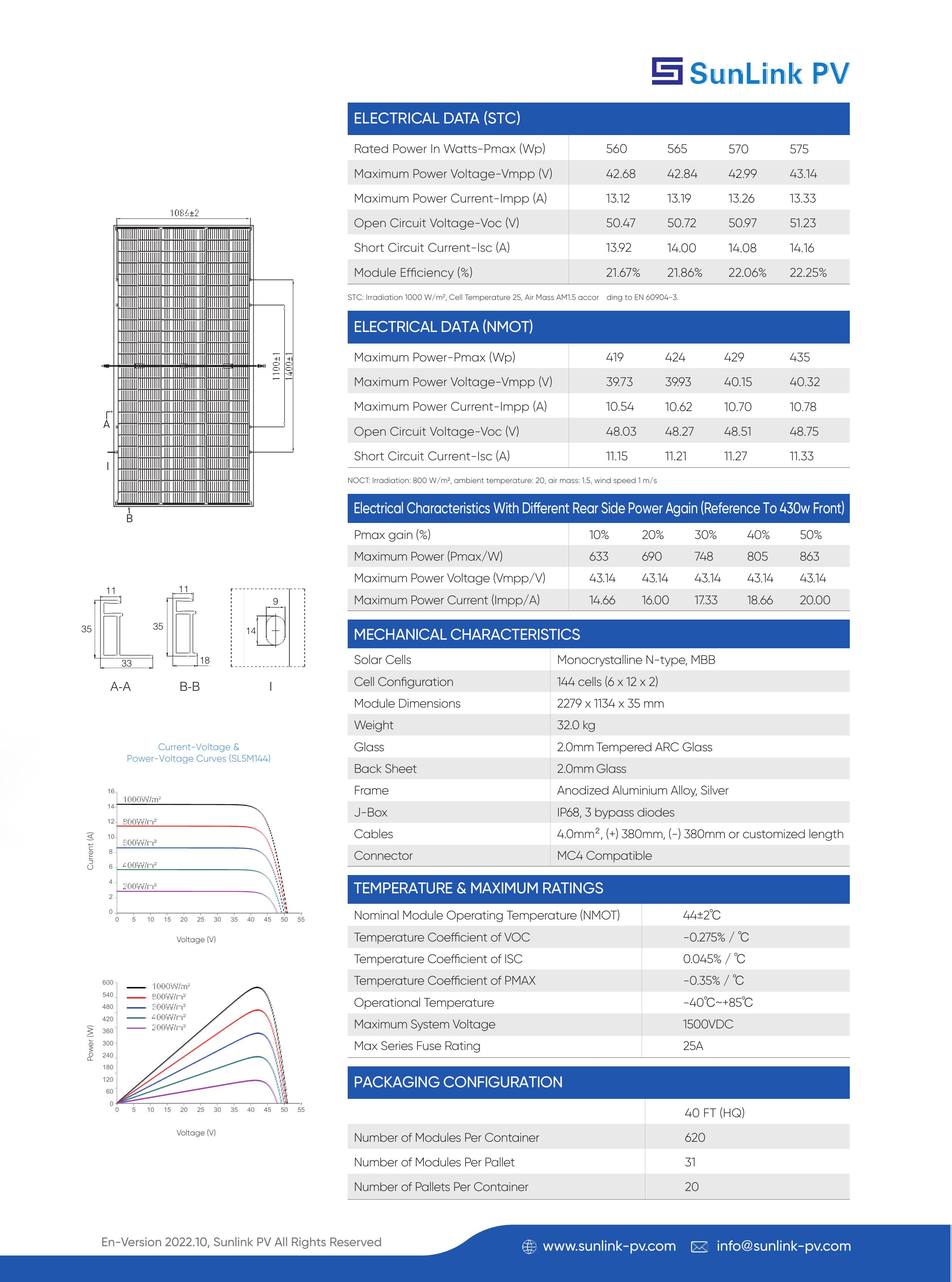table: (336, 617, 860, 871), (339, 99, 854, 303), (339, 871, 860, 1057), (335, 307, 854, 487), (343, 1063, 864, 1204), (340, 489, 862, 613)
